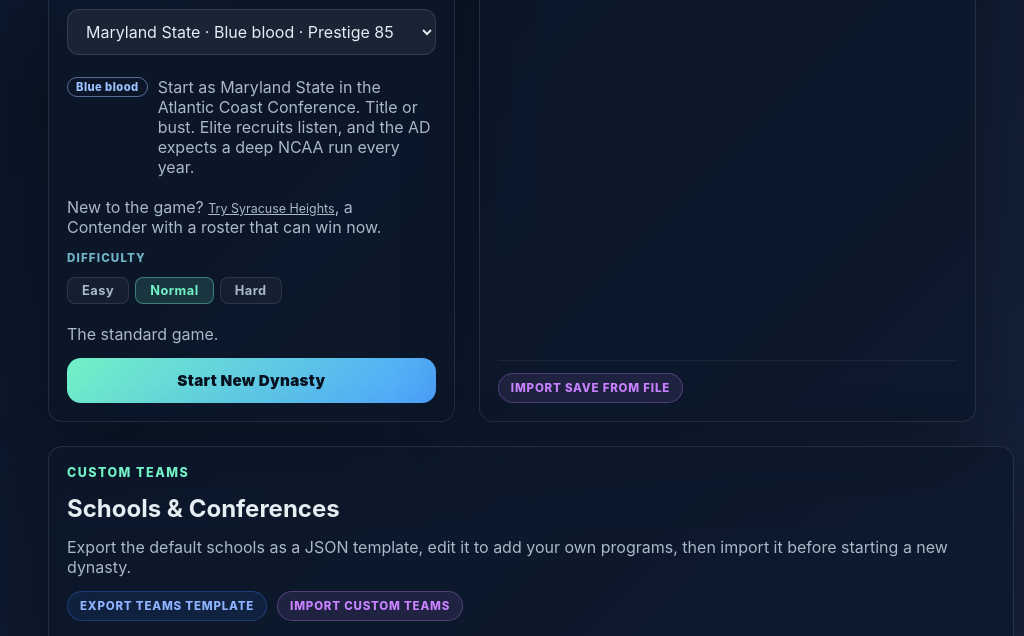
Test: Desktop App › switches to the recruiting tab and shows scouting controls
The image size is (1024, 636).
(page scrolled)
Click the button "Start New Dynasty" at [251, 380], box [67, 358, 436, 403]
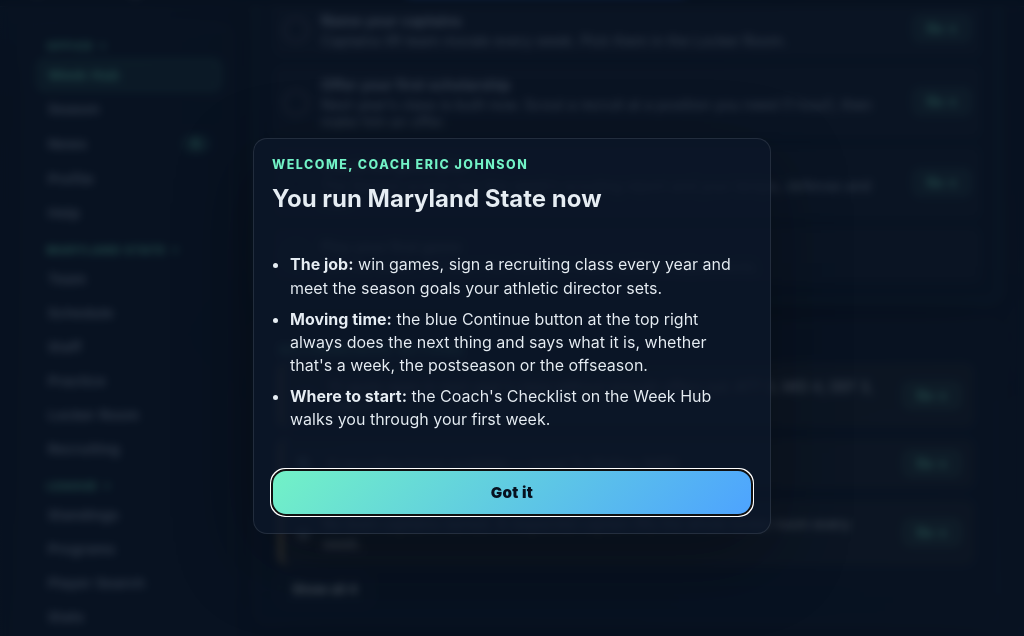
Click the button "Got it" at [512, 492], box [272, 470, 752, 515]
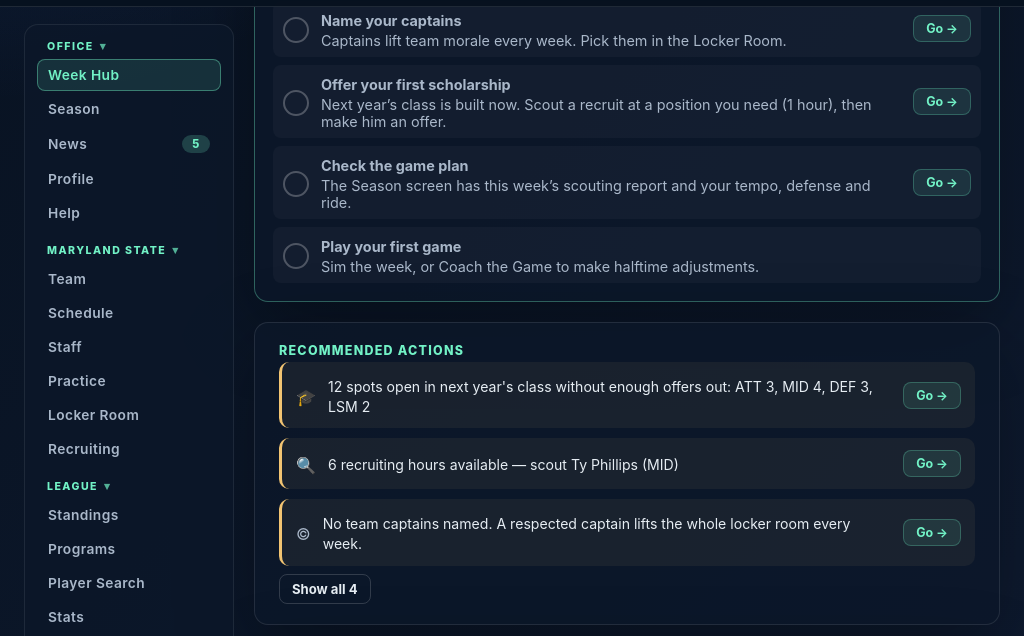
Click the button "Recruiting" at [129, 449], box [37, 433, 221, 465]
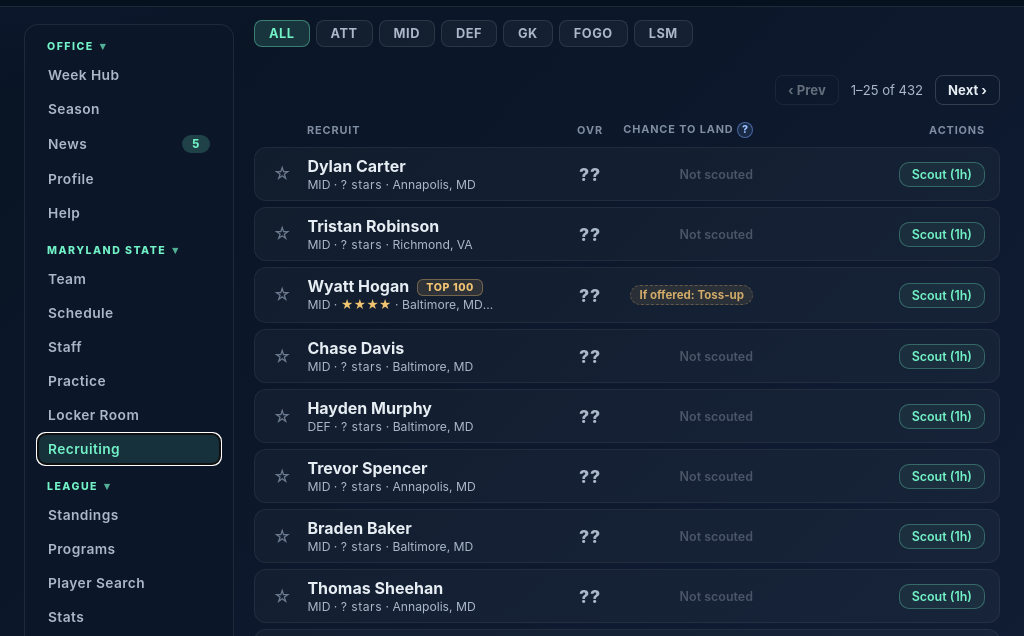
Expected: the 1st button "Scout (1h)" is shown, [899, 162, 985, 186]
